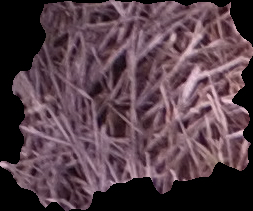soil: (1, 1, 252, 211)
